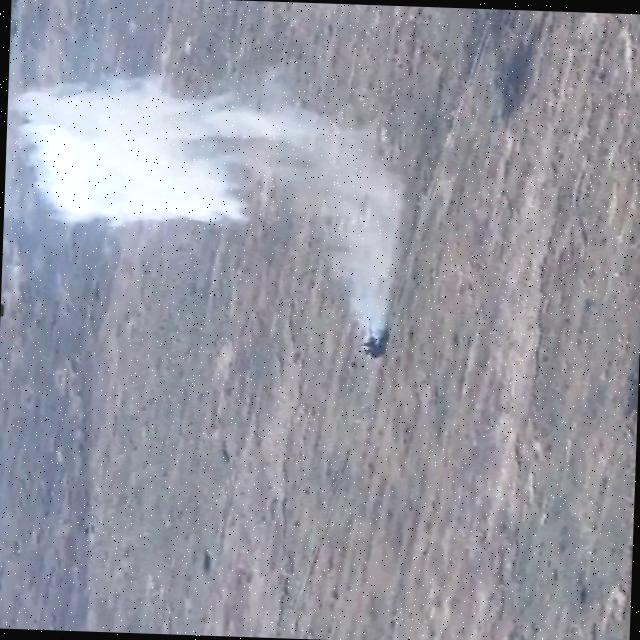MBT: (358, 316, 390, 361)
